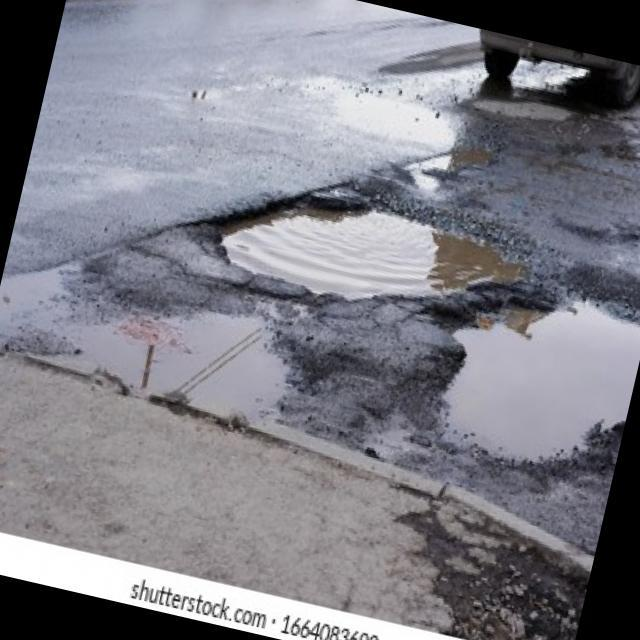Pothole: (198, 158, 536, 338), (422, 261, 640, 490), (67, 268, 310, 437)
